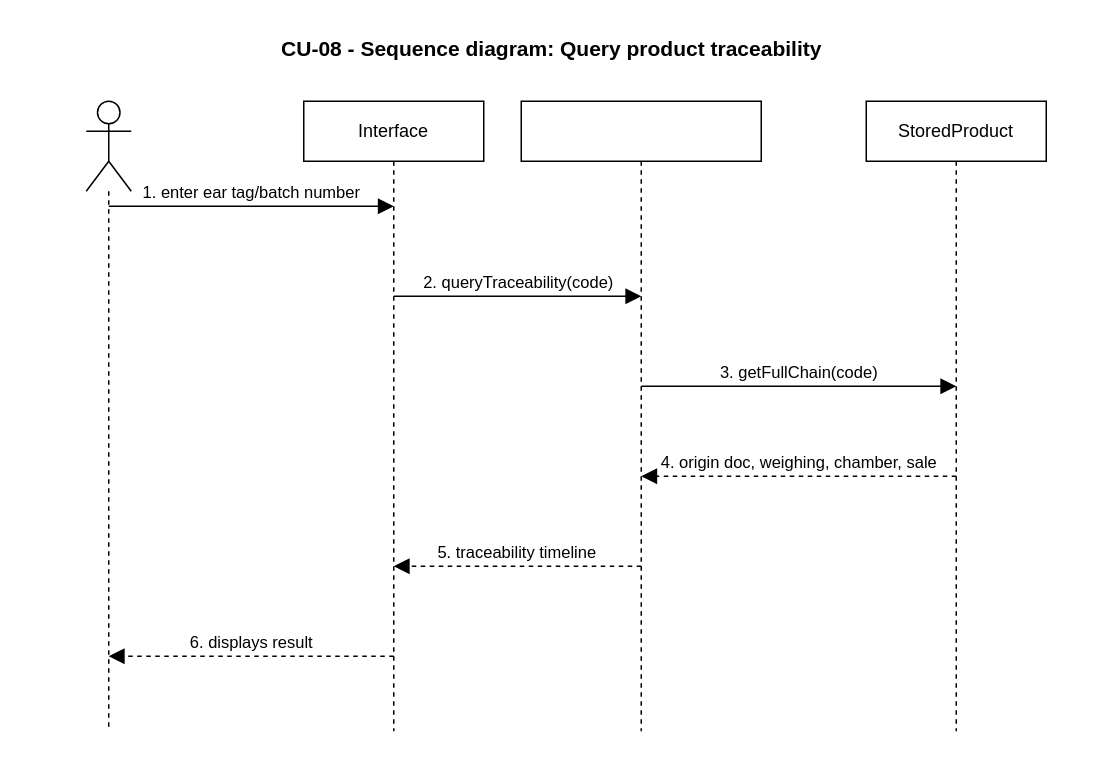
Some shapes in this 1101 by 759 pixel diagram are drawn without their labels. The centre of each missing label's shape, as x and y in pixels:
"Owner / Customer" goes at [108,145].
"TraceabilityController" goes at [640,130].
